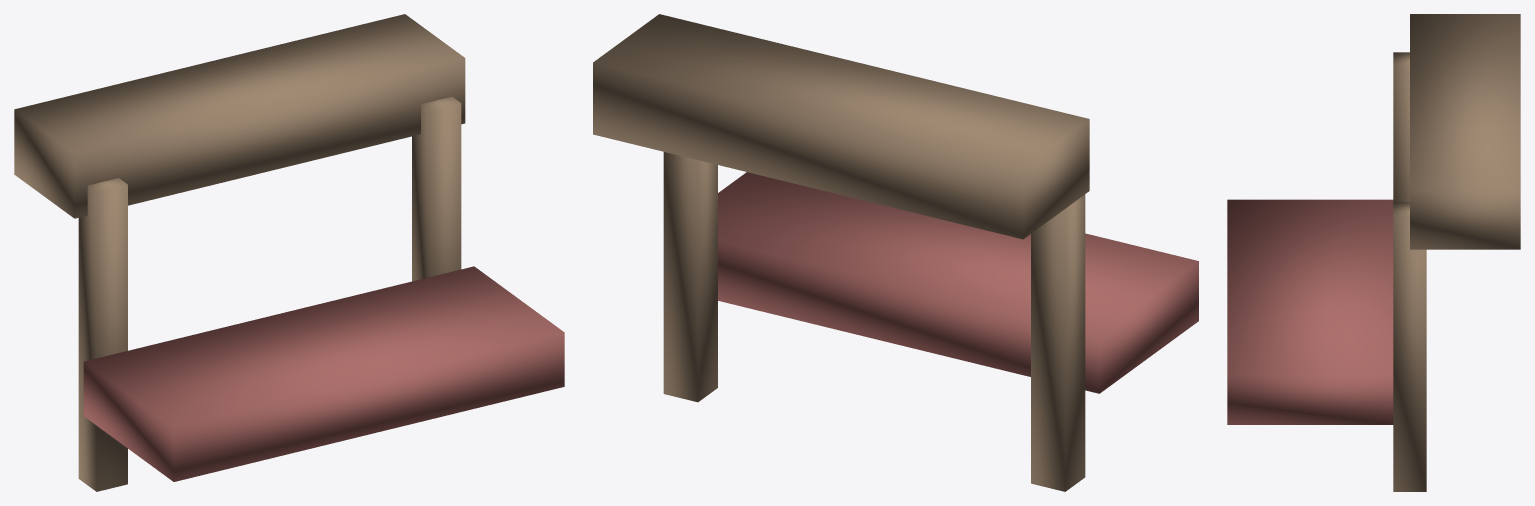
The model's file is prayer_kneeler.glb.
3 views of the same model, side by side, from view 1: azimuth 30°, elevation 25°; view 2: azimuth 150°, elevation 25°; view 3: azimuth 270°, elevation 25° (orthographic). The views are drawn at different scales.
Visible parts, largest first — view 1: world; view 2: world; view 3: world.
Boxes of the visible parts, left/top/right/bottom form: world: left=14, top=14, right=564, bottom=491; world: left=593, top=14, right=1198, bottom=491; world: left=1227, top=14, right=1520, bottom=491.
Bounding box in the file's own units: 0.75 × 0.615 × 0.53.
